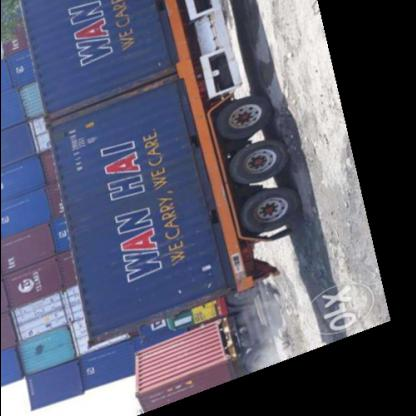Damage: (44, 64, 174, 140), (86, 278, 228, 347)
